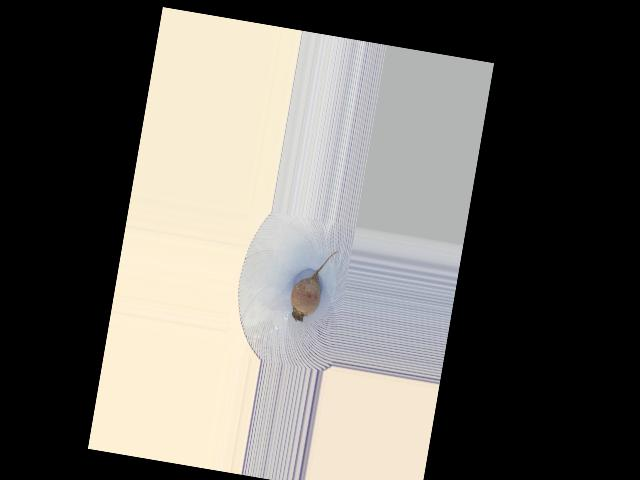beet: (287, 245, 338, 326)
